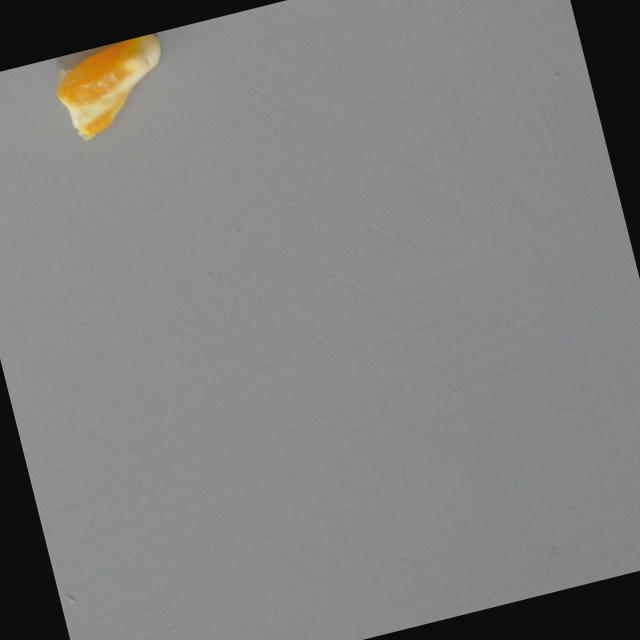pelicula: (48, 30, 180, 142)
